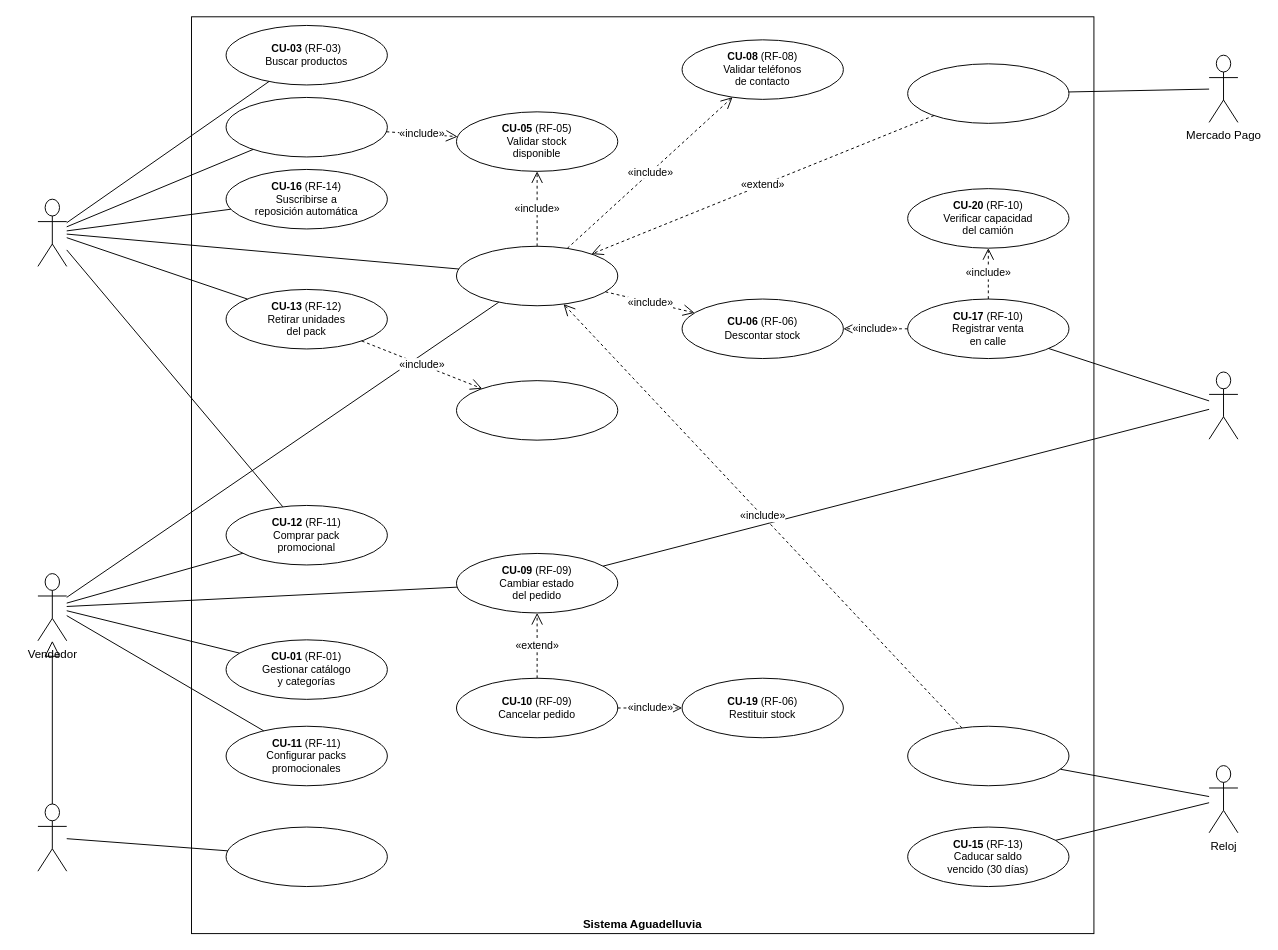
Some shapes in this 1278 by 950 pixel diagram are drawn without their labels. The shapes that lost their labels are listed below. From the top down, each one's centre as x and y in pixels, then its label:
At [988,93]: "CU-18 Pagar con Mercado Pago".
At [306,126]: "CU-04 (RF-04) Gestionar carrito".
At [52,232]: "Cliente".
At [537,275]: "CU-07 (RF-07) Registrar pedido".
At [537,410]: "CU-14 (RF-13) Consumir saldo (FIFO)".
At [1223,405]: "Repartidor".
At [988,755]: "CU-21 (RF-14) Generar pedido automático".
At [52,837]: "Administrador".
At [306,856]: "CU-02 (RF-02) Gestionar envases retornables".
